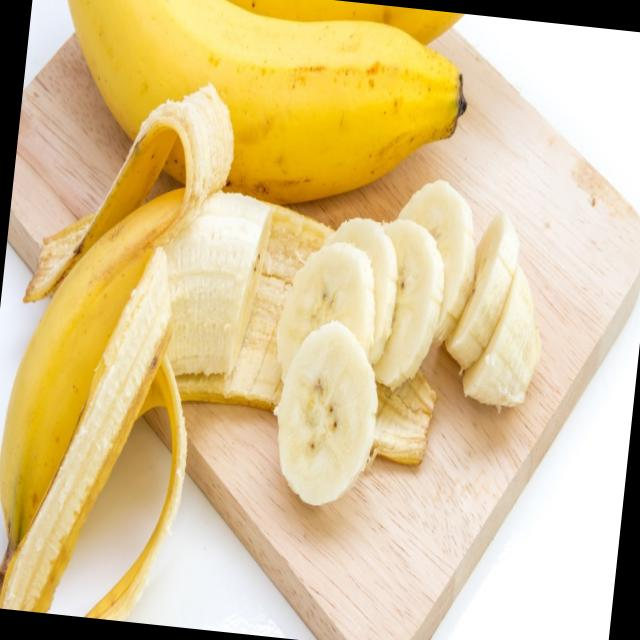banana: (28, 0, 449, 199)
